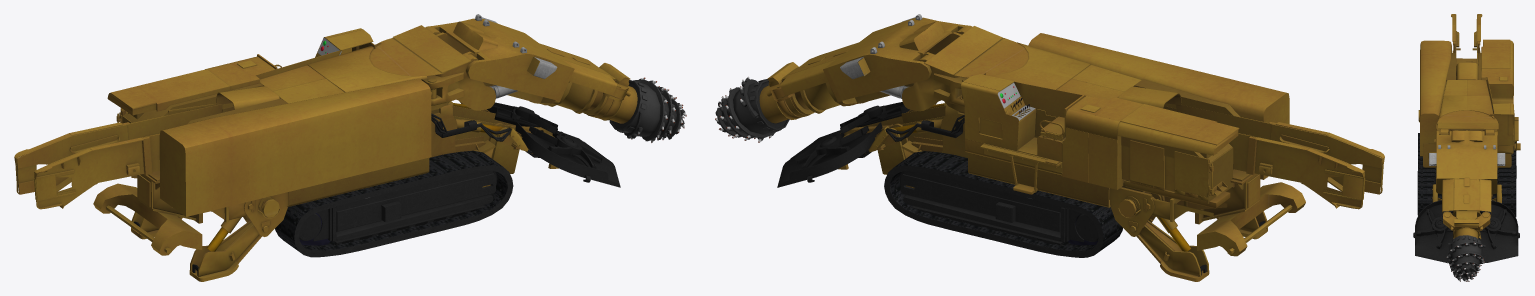
Rendered from HJ_MKTS_002.FBX.
The picture shows the model from 3 angles, left to right: view 1: azimuth 30°, elevation 25°; view 2: azimuth 150°, elevation 25°; view 3: azimuth 270°, elevation 25°; orthographic projection. The views are drawn at different scales.
Parts seen in each view (by area): view 1: HJ_MKTS_002_A, HJ_MKTS_002_F, HJ_MKTS_002_B, HJ_MKTS_002_D, HJ_MKTS_002_C, HJ_MKTS_002_E; view 2: HJ_MKTS_002_A, HJ_MKTS_002_F, HJ_MKTS_002_B, HJ_MKTS_002_D, HJ_MKTS_002_C, HJ_MKTS_002_E, HJ_MKTS_002_G; view 3: HJ_MKTS_002_A, HJ_MKTS_002_B, HJ_MKTS_002_C, HJ_MKTS_002_F, HJ_MKTS_002_E, HJ_MKTS_002_D, HJ_MKTS_002_G.
Boxes of the visible parts, x1,y1,x2,y2 form: HJ_MKTS_002_A: (14, 25, 495, 281); HJ_MKTS_002_F: (275, 14, 557, 257); HJ_MKTS_002_B: (425, 18, 637, 123); HJ_MKTS_002_D: (122, 83, 558, 206); HJ_MKTS_002_C: (133, 102, 620, 276); HJ_MKTS_002_E: (207, 77, 686, 251); HJ_MKTS_002_A: (902, 26, 1384, 281); HJ_MKTS_002_F: (840, 14, 1122, 257); HJ_MKTS_002_B: (759, 17, 972, 123); HJ_MKTS_002_D: (838, 79, 1240, 207); HJ_MKTS_002_C: (777, 102, 1265, 276); HJ_MKTS_002_E: (715, 77, 1191, 251); HJ_MKTS_002_G: (979, 82, 1084, 168); HJ_MKTS_002_A: (1418, 14, 1520, 156); HJ_MKTS_002_B: (1428, 130, 1497, 238); HJ_MKTS_002_C: (1413, 166, 1519, 263); HJ_MKTS_002_F: (1417, 133, 1516, 216); HJ_MKTS_002_E: (1446, 235, 1485, 281); HJ_MKTS_002_D: (1423, 53, 1511, 239); HJ_MKTS_002_G: (1489, 83, 1515, 142).
Size of the model in its own units: 9.05 by 2.05 by 2.11.
